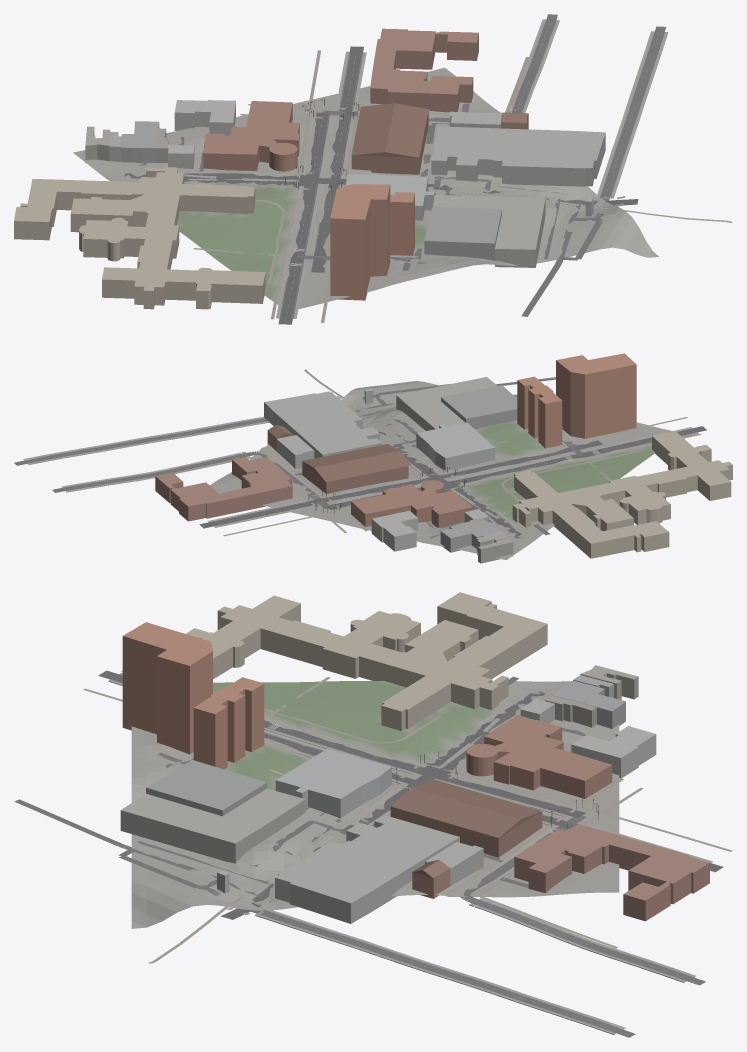
File: tile_-7_4.glb
3 renders of one model, top to bottom at view 1: azimuth 30°, elevation 25°; view 2: azimuth 150°, elevation 25°; view 3: azimuth 270°, elevation 25°, orthographic. The views are drawn at different scales.
Visible parts, largest first — view 1: buildings, terrain, roads, sidewalks, paths; view 2: buildings, terrain, roads, sidewalks, paths; view 3: buildings, terrain, roads, sidewalks, paths.
Part boxes in pixels (x1,y1,x2,y2): buildings: (14, 28, 605, 309); terrain: (73, 67, 658, 308); roads: (125, 14, 666, 324); sidewalks: (184, 19, 668, 318); paths: (140, 50, 732, 322); buildings: (155, 353, 732, 563); terrain: (210, 381, 672, 559); roads: (14, 377, 706, 538); sidewalks: (23, 395, 698, 528); paths: (135, 369, 701, 536); buildings: (120, 592, 709, 923); terrain: (131, 681, 619, 928); roads: (14, 670, 723, 1037); sidewalks: (108, 672, 713, 1034); paths: (83, 671, 732, 963).
Bounding box in the file's own units: 500 × 74.16 × 377.
